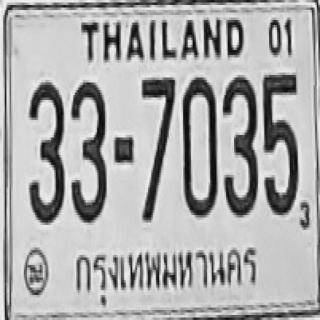N00: (182, 76, 216, 216)
N03: (28, 81, 64, 224), (70, 80, 106, 222), (222, 76, 257, 216)
N05: (262, 72, 298, 215)
N07: (140, 76, 175, 221), (140, 75, 175, 180)
P04: (72, 238, 263, 306)
